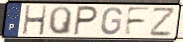F: (123, 6, 153, 37)
G: (100, 6, 124, 36)
H: (22, 4, 48, 36)
P: (72, 5, 99, 37)
Q: (48, 5, 73, 36)
Z: (149, 7, 177, 38)
